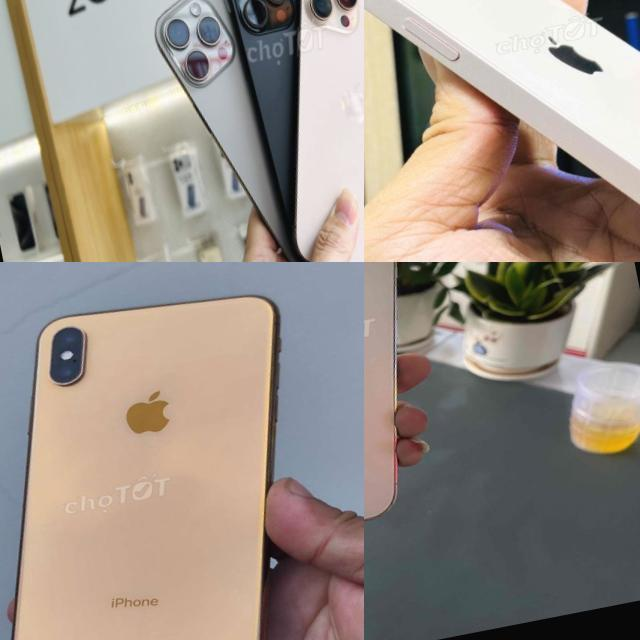gen_12_13: (364, 0, 640, 262)
gen_14: (364, 262, 434, 563)
gen_16: (239, 0, 364, 262)
gen_x_xs: (12, 296, 280, 640)
